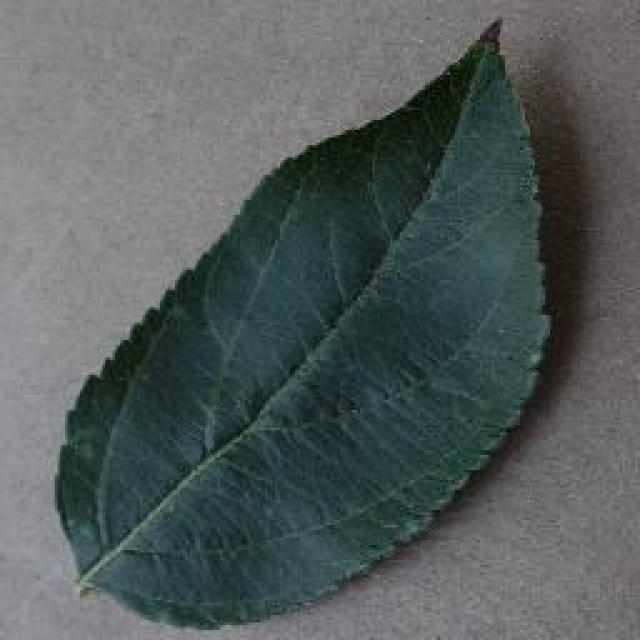apple healthy: (50, 12, 555, 630)
